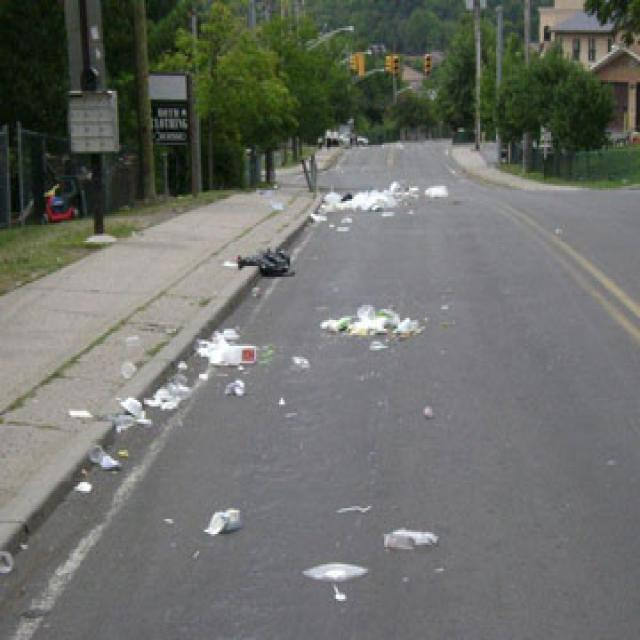plastic: (61, 393, 148, 500), (314, 174, 447, 233), (322, 292, 430, 355), (291, 547, 378, 602), (192, 322, 265, 371), (383, 520, 464, 555), (232, 240, 297, 281), (192, 498, 252, 541)
